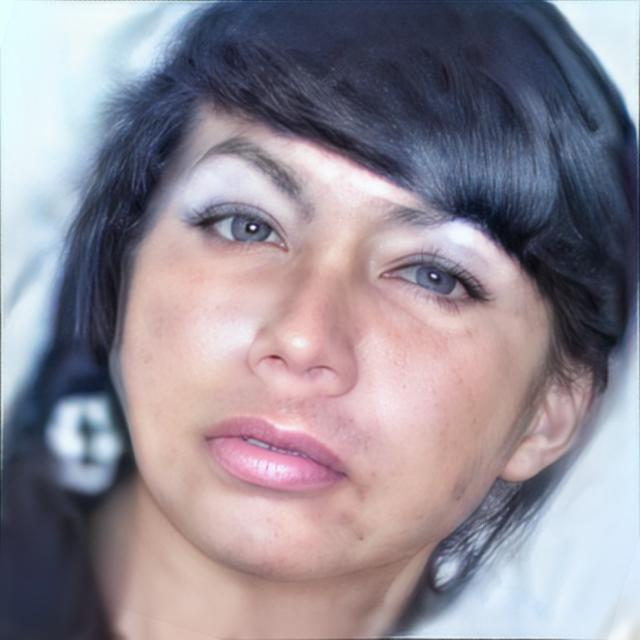disgust: (115, 87, 554, 586)
